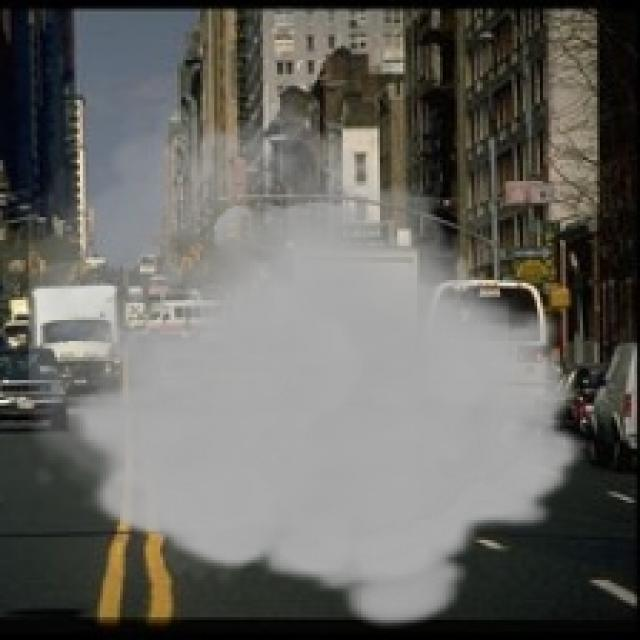smoke: (29, 83, 588, 631)
